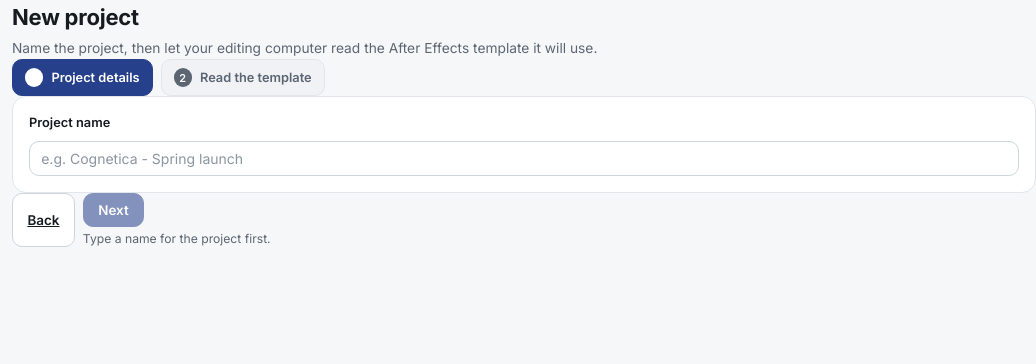
it: NewProjectWizard › shows an honest empty state when no worker reports INSPECT_TEMPLATE - never a fake/disabled control
The width and height of the screenshot is (1036, 364).
Type "Real Project" into the field labelled "Project name" at (524, 158), box x1=29 y1=141 x2=1019 y2=176
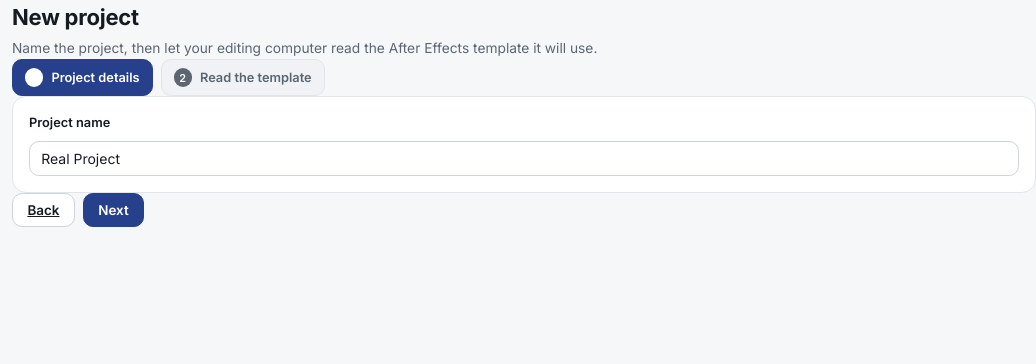
Click the button "Next" at (113, 210), box x1=83 y1=193 x2=144 y2=227
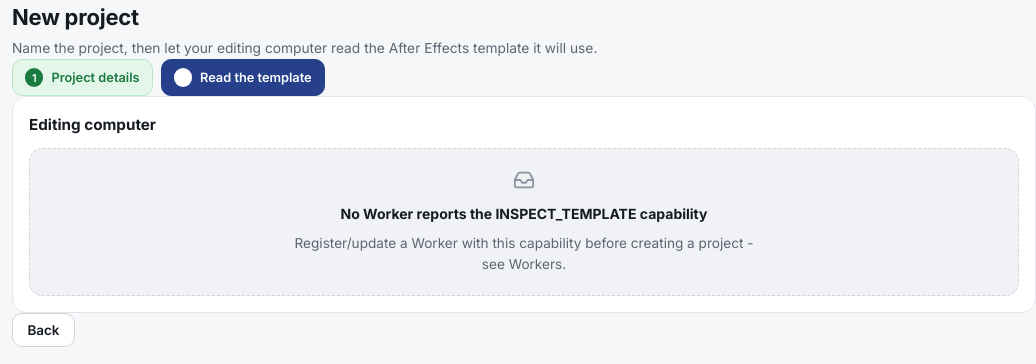
Expected: the text "No Worker reports the INSPECT_TEMPLATE capability" is shown, x1=340 y1=203 x2=707 y2=225
